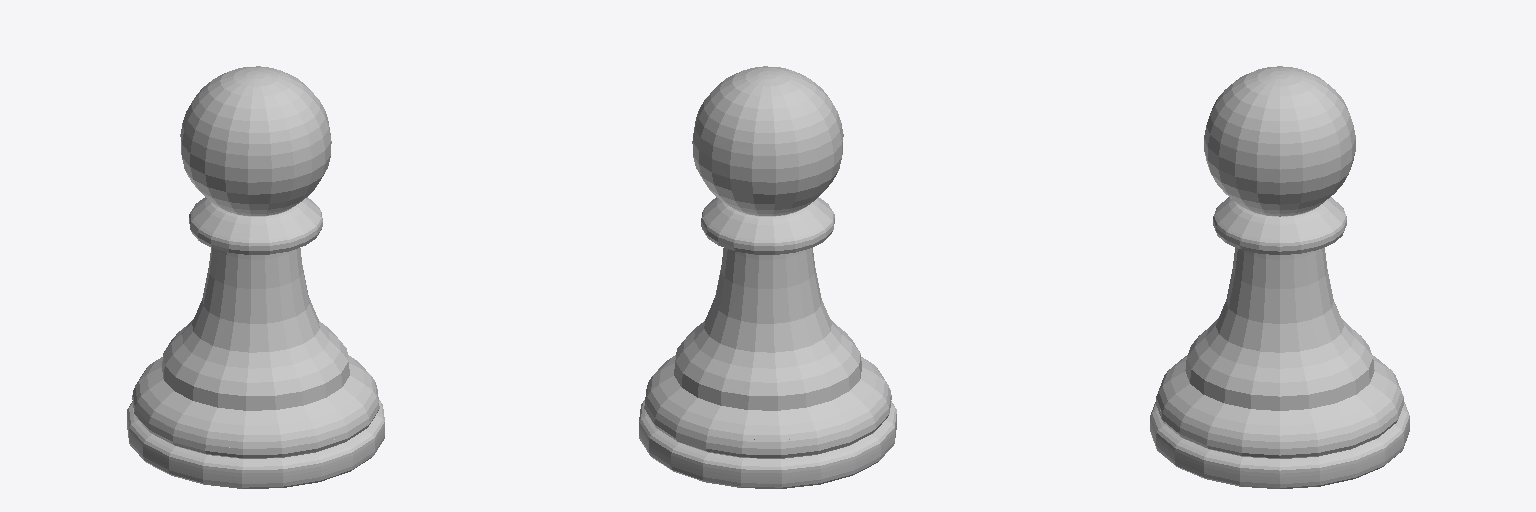
File: pawn_b_3.obj
The picture shows the model from 3 angles: view 1: azimuth 30°, elevation 25°; view 2: azimuth 150°, elevation 25°; view 3: azimuth 270°, elevation 25°; orthographic projection.
Parts seen in each view (by area): view 1: pawn_b_3; view 2: pawn_b_3; view 3: pawn_b_3.
Part boxes in pixels (bbox=[...]): pawn_b_3: bbox=[127, 66, 384, 488]; pawn_b_3: bbox=[639, 66, 896, 488]; pawn_b_3: bbox=[1150, 66, 1409, 488].
Bounding box in the file's own units: 2.73 × 4.2 × 2.73.